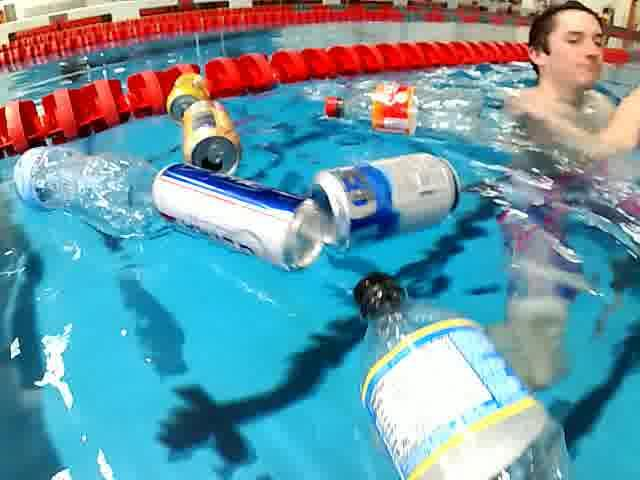Bottle: (341, 264, 578, 480), (2, 138, 160, 242), (318, 77, 484, 148)
Can: (148, 154, 332, 280), (304, 152, 468, 256), (180, 100, 252, 184), (163, 67, 213, 127)
